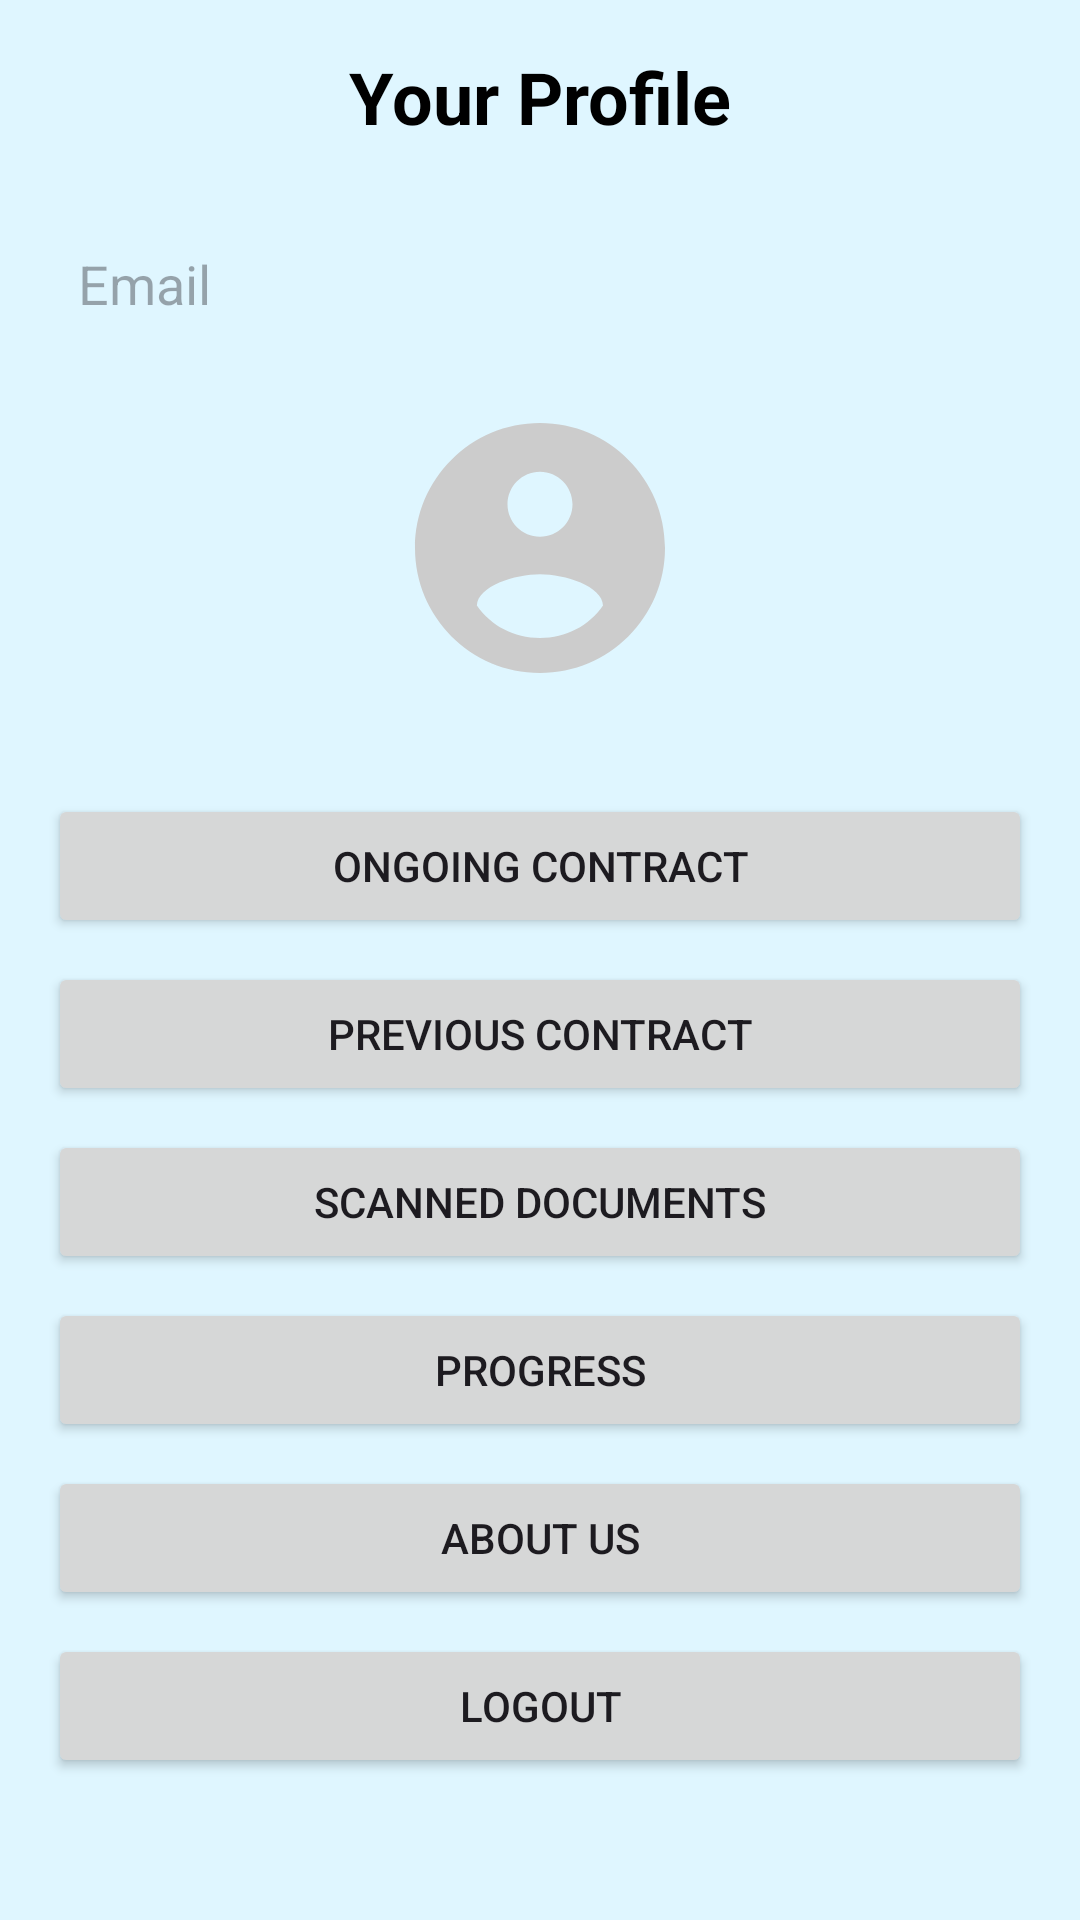

Named icons in this screenshot (1080px×1920px) and their centers, point (x, y):
profileimage: point (540, 548)
